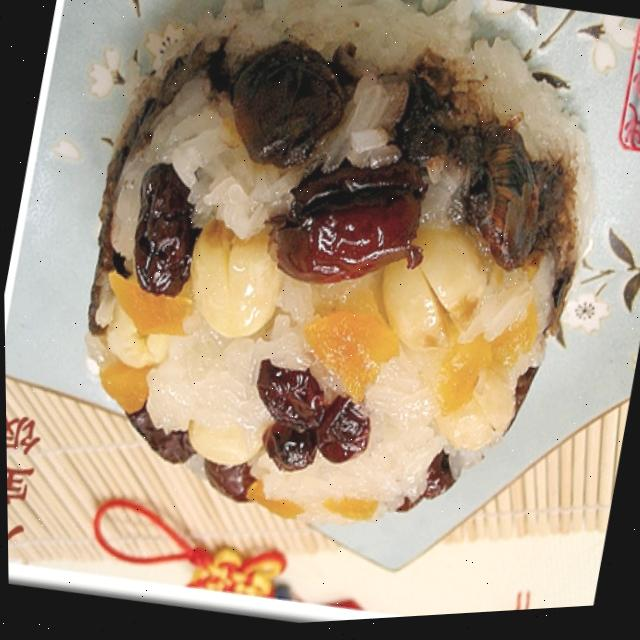米饭主食: (26, 0, 610, 586)
